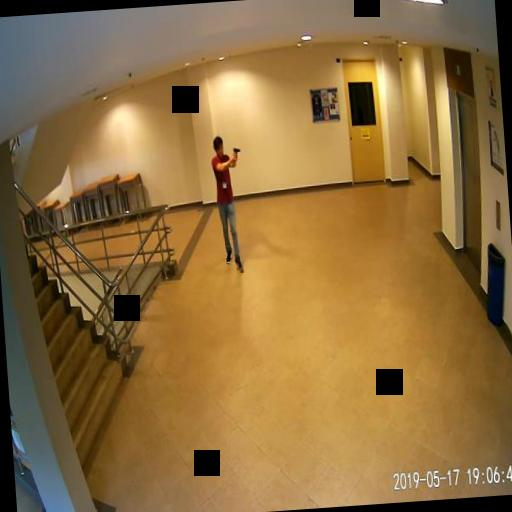Handgun: (232, 146, 240, 160)
